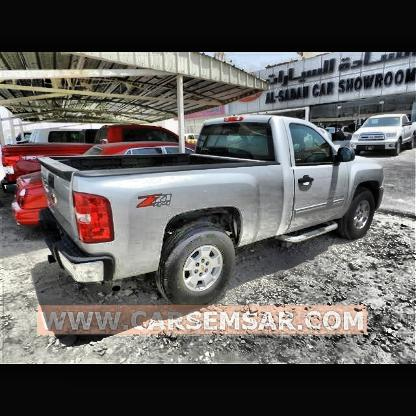Chevrolet Silverado 1500 Regular Cab 2012: (19, 105, 399, 314)
